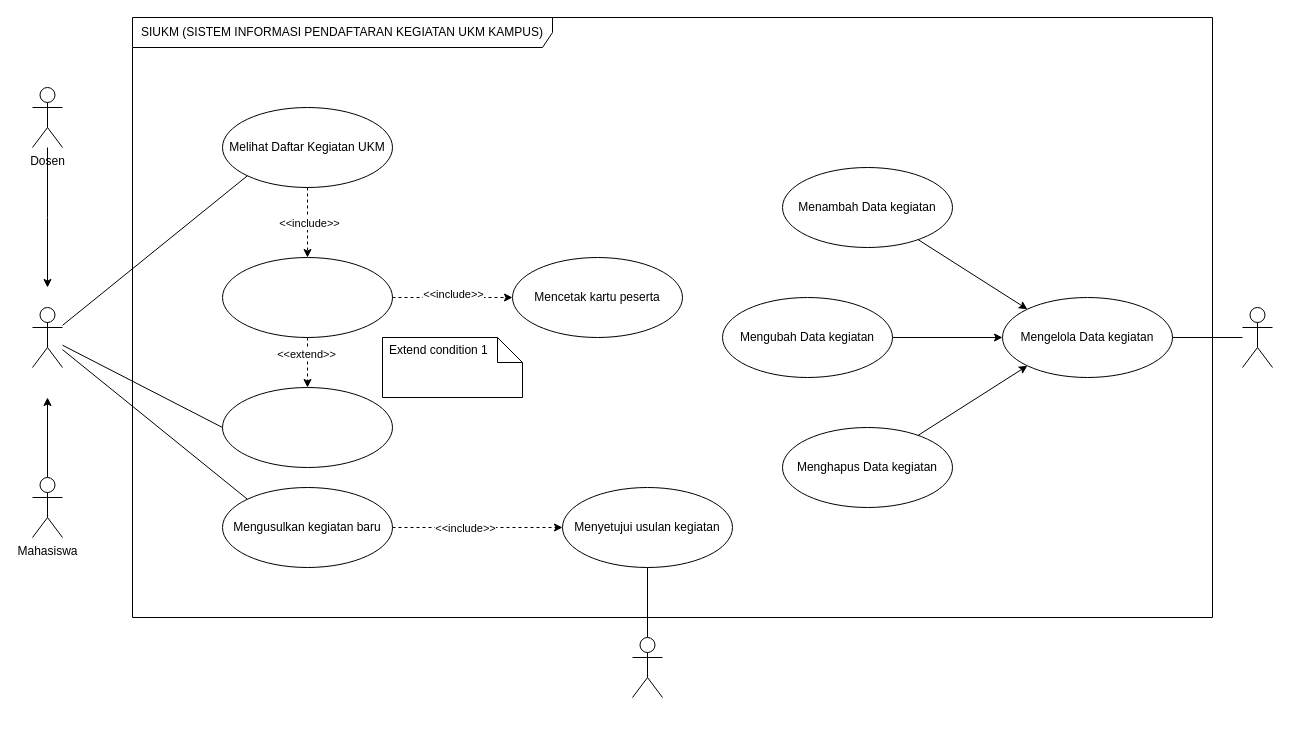
This 1315x736 diagram has some shape labels left out. Here are the shapes that lost their labels. From the top down, the centre of each, then its label:
pixel 307 297: Mendaftar Kegiatan UKM
pixel 47 337: Peserta
pixel 1257 337: Pengurus UKM
pixel 452 367: Extension point 1
pixel 307 427: Membatalkan Pendaftaran
pixel 647 667: Pembina UKM
